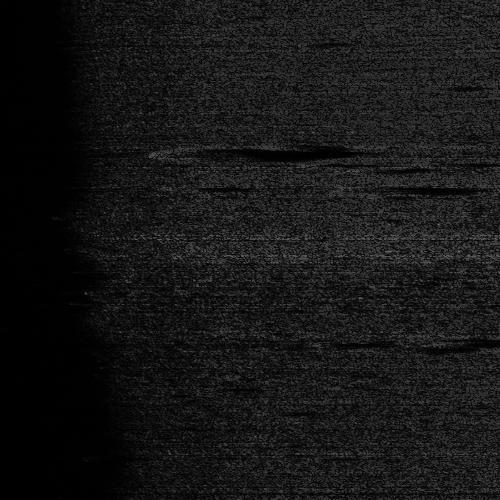object: (135, 142, 240, 159), (293, 181, 428, 192), (421, 336, 484, 343)
shadow: (188, 142, 361, 159), (361, 181, 469, 192), (452, 336, 500, 343)
